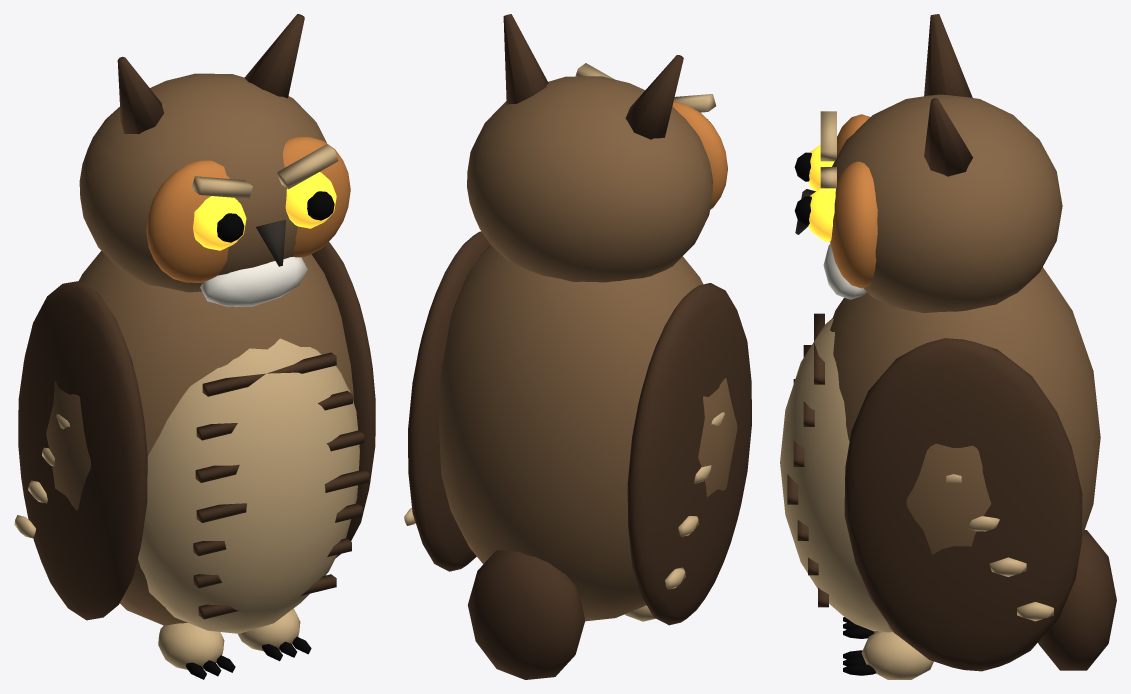
Rendered from owl.glb.
The picture shows the model from 3 angles, left to right: view 1: azimuth 30°, elevation 25°; view 2: azimuth 150°, elevation 25°; view 3: azimuth 270°, elevation 25°; orthographic projection. The views are drawn at different scales.
Visible parts, largest first — view 1: owl_breast, owl_wingm, owl_headm, owl_body, owl_disc, owl_wingm.001, owl_bib, owl_disc.001, owl_tuft.001, owl_foot, owl_tuft, owl_eyem (+14 smaller); view 2: owl_body, owl_headm, owl_wingm, owl_tail, owl_wingm.001, owl_tuft, owl_tuft.001, owl_disc, owl_brow; view 3: owl_wingm.001, owl_headm, owl_body, owl_breast, owl_tail, owl_disc.001, owl_tuft.001, owl_tuft, owl_foot.001, owl_eyem.001, owl_bib, owl_brow (+5 smaller).
Part boxes in pixels (x1,y1,x2,y2): owl_breast: (138, 338, 359, 633); owl_wingm: (18, 281, 147, 620); owl_headm: (79, 73, 326, 292); owl_body: (46, 251, 353, 625); owl_disc: (146, 160, 229, 282); owl_wingm.001: (311, 242, 375, 558); owl_bib: (200, 256, 307, 306); owl_disc.001: (283, 136, 350, 257); owl_tuft.001: (244, 14, 304, 98); owl_foot: (158, 623, 224, 669); owl_tuft: (117, 56, 164, 134); owl_eyem: (193, 196, 246, 250); owl_body: (439, 245, 737, 621); owl_headm: (467, 76, 712, 282); owl_wingm: (627, 283, 751, 625); owl_tail: (468, 550, 585, 679); owl_wingm.001: (408, 231, 490, 571); owl_tuft: (625, 55, 683, 139); owl_tuft.001: (503, 14, 548, 104); owl_disc: (672, 101, 727, 209); owl_brow: (673, 94, 715, 112); owl_wingm.001: (844, 338, 1082, 671); owl_headm: (830, 94, 1062, 312); owl_body: (830, 267, 1100, 633); owl_breast: (780, 318, 892, 632); owl_tail: (1038, 530, 1116, 670); owl_disc.001: (830, 161, 877, 288); owl_tuft.001: (924, 98, 972, 176); owl_tuft: (924, 14, 972, 97); owl_foot.001: (861, 631, 933, 679); owl_eyem.001: (808, 188, 835, 241); owl_bib: (823, 244, 866, 299); owl_brow: (820, 111, 836, 161).
Bounding box in the file's own units: 0.6 × 1.24 × 0.62.
